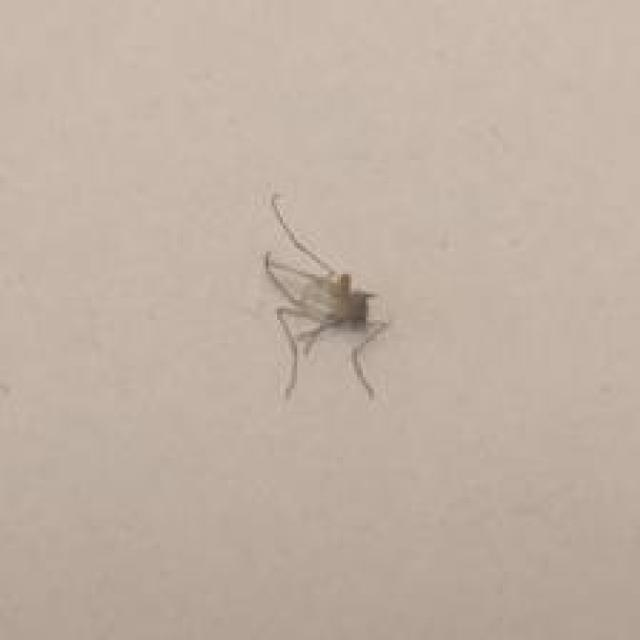Culex: (260, 191, 391, 400)
